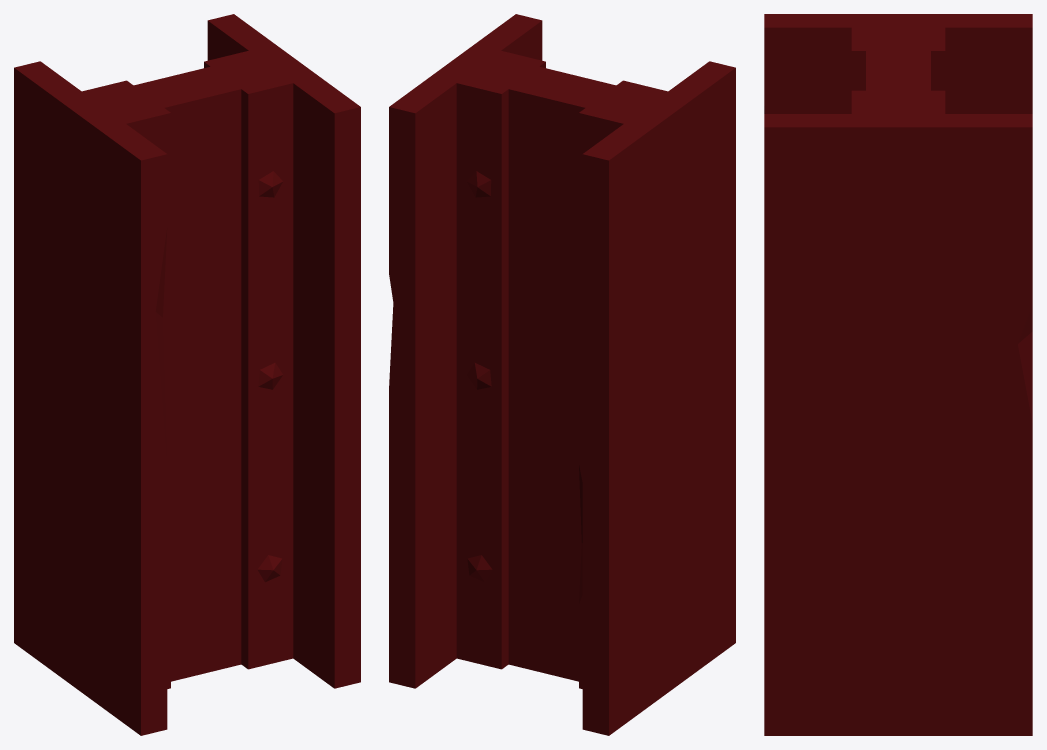
File: SW_ENV_PillarGirderMid_1m.fbx
3 views of the same model, side by side, from view 1: azimuth 30°, elevation 25°; view 2: azimuth 150°, elevation 25°; view 3: azimuth 270°, elevation 25° (orthographic). The views are drawn at different scales.
Visible parts, largest first — view 1: SW_ENV_PillarGirderMid_1m; view 2: SW_ENV_PillarGirderMid_1m; view 3: SW_ENV_PillarGirderMid_1m.
Part boxes in pixels (x1,y1,x2,y2): SW_ENV_PillarGirderMid_1m: [14, 14, 360, 735]; SW_ENV_PillarGirderMid_1m: [389, 14, 735, 735]; SW_ENV_PillarGirderMid_1m: [764, 14, 1032, 735].
Size of the model in its own units: 40 by 100 by 40.
